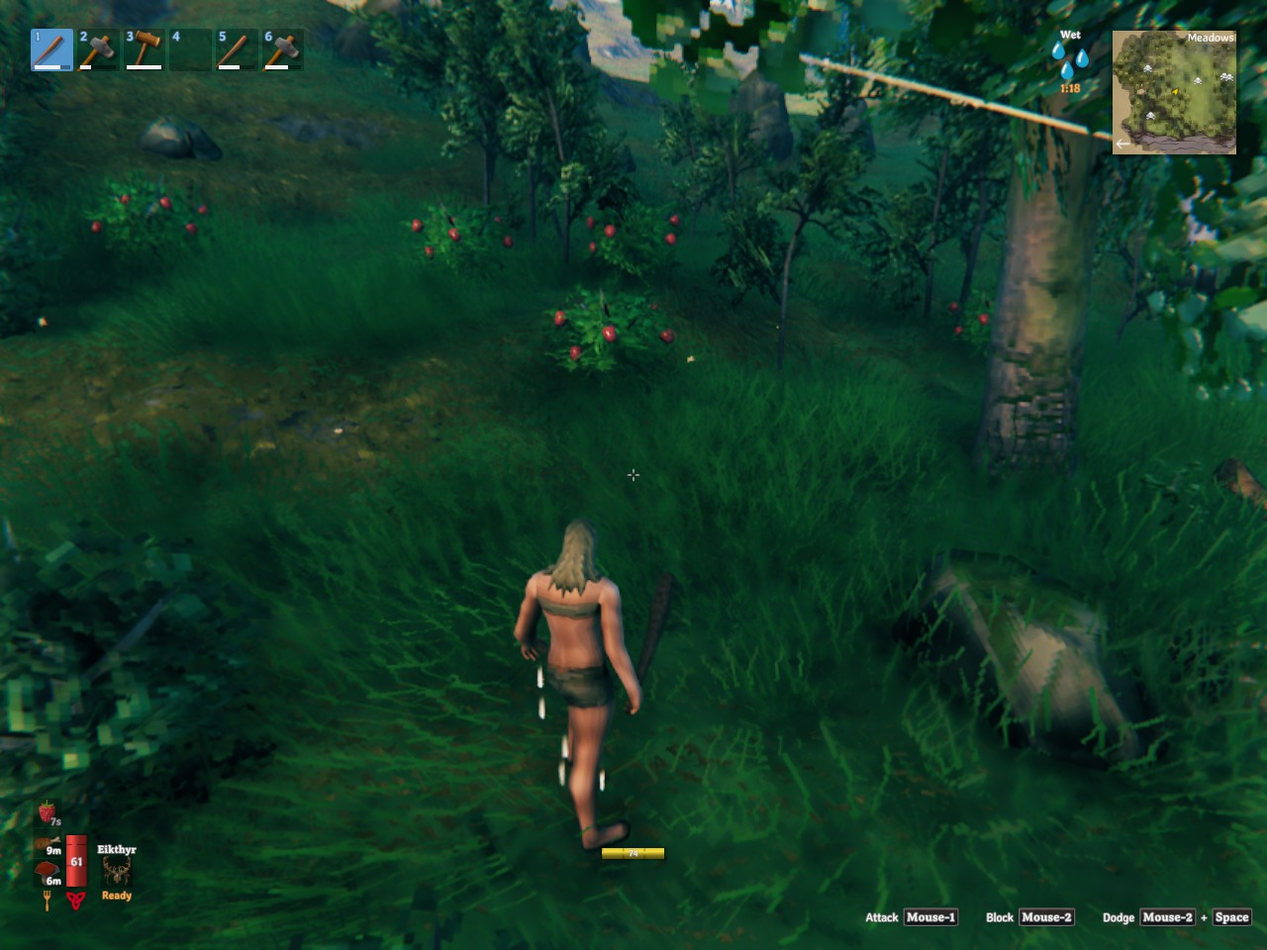Club: (636, 572, 675, 681)
Food Indicator: (36, 797, 63, 891)
Health Bar: (63, 820, 90, 891)
Hotbar: (25, 21, 398, 78)
Raspberries: (553, 297, 676, 376), (88, 184, 213, 254), (412, 208, 515, 271), (583, 212, 681, 272), (949, 297, 994, 356)
Status Indicator: (1034, 25, 1110, 96)
